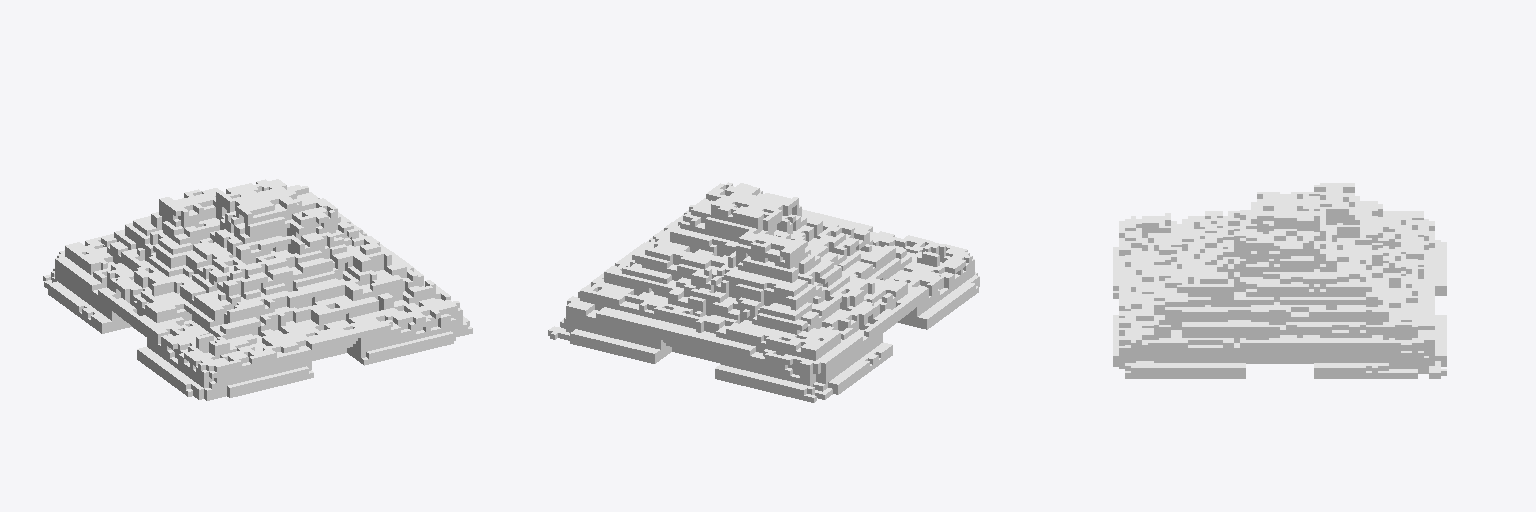
Rendered from SlimeSpawner.obj.
The picture shows the model from 3 angles: view 1: azimuth 30°, elevation 25°; view 2: azimuth 150°, elevation 25°; view 3: azimuth 270°, elevation 25°; orthographic projection.
Size of the model in its own units: 56 by 21 by 58.